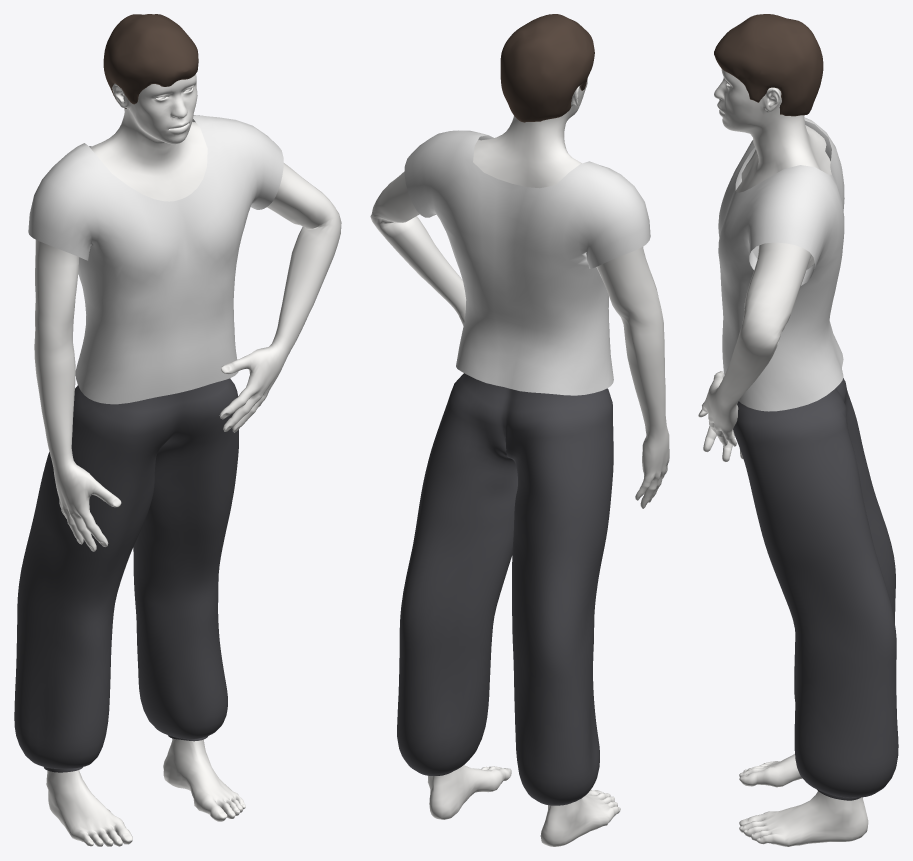
File: mannequin-male-hand_on_hip.glb
3 renders of one model, left to right at view 1: azimuth 30°, elevation 25°; view 2: azimuth 150°, elevation 25°; view 3: azimuth 270°, elevation 25°, orthographic. The views are drawn at different scales.
Parts seen in each view (by area): view 1: Pants, Shirt, Body, HairSculpt; view 2: Pants, Shirt, Body, HairSculpt; view 3: Pants, Body, Shirt, HairSculpt.
Boxes of the visible parts, <box> form: Pants: <box>14,378,238,772</box>; Shirt: <box>28,115,283,404</box>; Body: <box>34,74,341,846</box>; HairSculpt: <box>103,14,198,108</box>; Pants: <box>397,373,613,805</box>; Shirt: <box>404,130,650,395</box>; Body: <box>370,79,669,846</box>; HairSculpt: <box>500,14,594,122</box>; Pants: <box>733,378,898,800</box>; Body: <box>698,69,868,846</box>; Shirt: <box>718,117,844,411</box>; HairSculpt: <box>714,14,823,116</box>.
Size of the model in its own units: 0.7317 by 1.9 by 0.4373.
